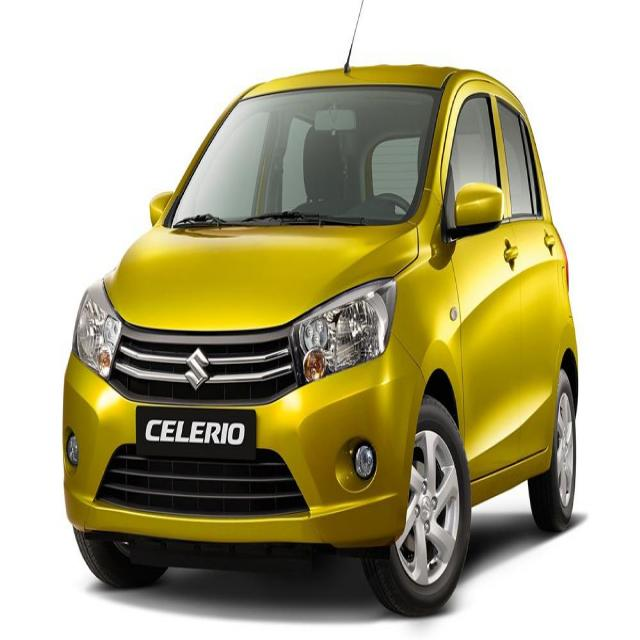back_left_door: (490, 82, 562, 463)
front_bumper: (61, 319, 427, 548)
front_glass: (164, 84, 444, 226)
front_left_door: (440, 81, 521, 483)
front_left_light: (288, 279, 396, 390)
front_right_light: (71, 277, 125, 381)
hood: (103, 221, 418, 330)
left_mirror: (447, 182, 504, 240)
right_mirror: (148, 191, 174, 227)
